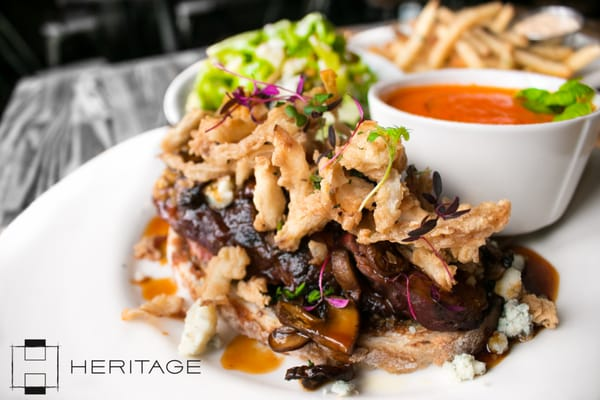sushi: (368, 67, 600, 237)
